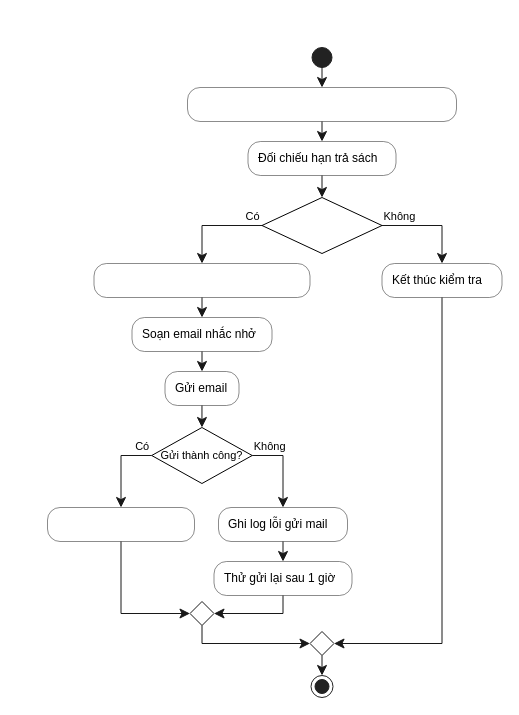
This 519x715 diagram has some shape labels left out. Each missing label, with the centre of its shape:
Có phiếu sắp đến hạn?: the point at 321,225
Ghi nhận đã gửi email: the point at 120,524
Kiểm tra danh sách phiếu mượn hằng ngày: the point at 321,104
Lọc các phiếu còn 3 ngày đến hạn: the point at 201,280
